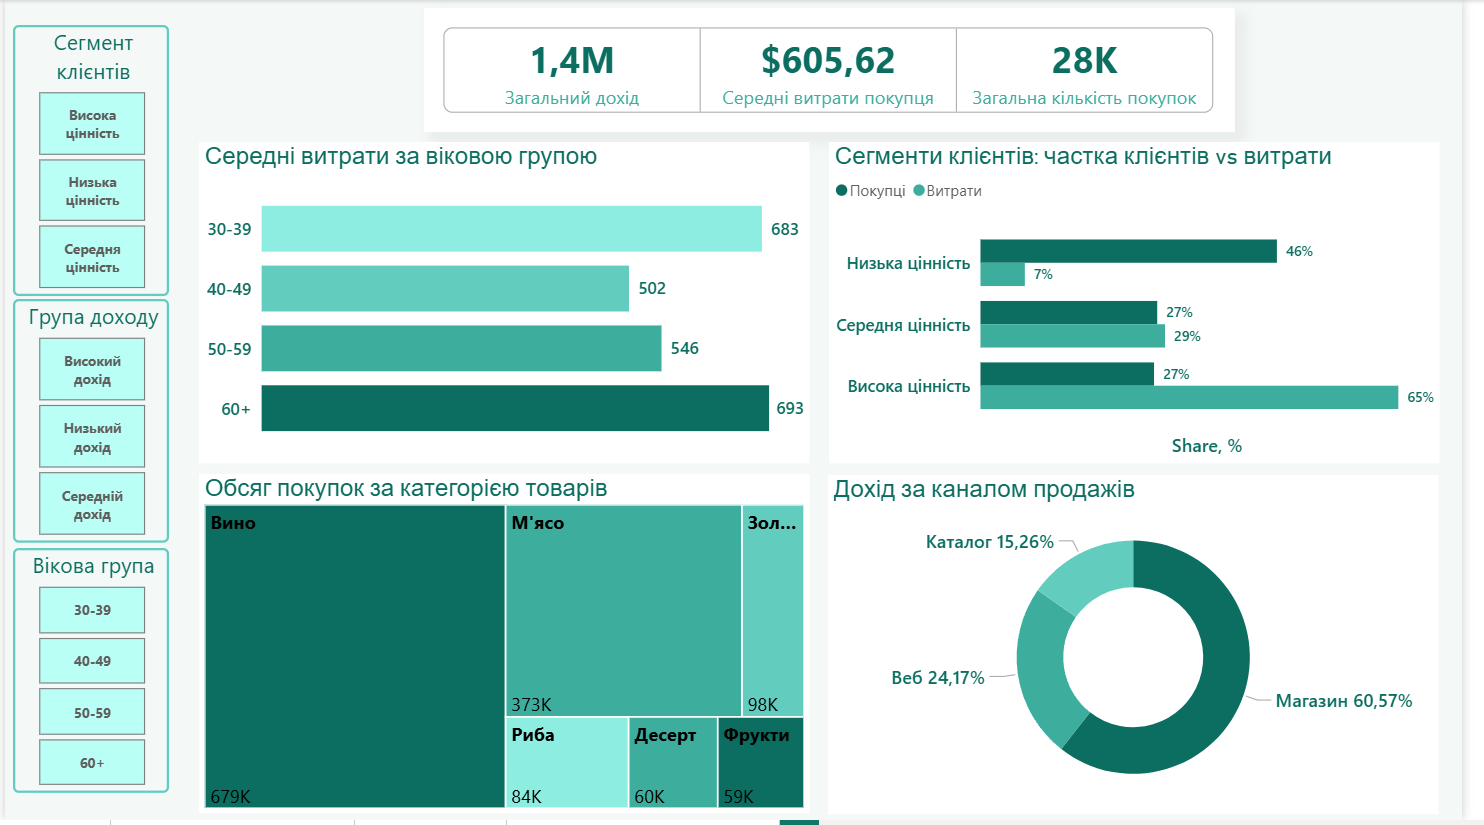

Layout of this report page (visuals, bound fields, positions):
{"tool":"powerbi","page":{"name":"Портрет_клієнта_ua","canvas":[1280,720],"ordinal":2},"visuals":[{"type":"cardVisual","fields":{"Data":["_Measures.Total Revenue","_Measures.Avg Customer Spending","_Measures.Total Purchases"]},"box":[367.5,7.1,712.4,109.3],"z":0},{"type":"slicer","title":"Сегмент клієнтів","fields":{"Values":["marketing_campaign_features.Customer Segment UA"]},"box":[7.1,21.7,137.5,238.1],"z":1000},{"type":"slicer","title":"Група доходу","fields":{"Values":["marketing_campaign_features.Income Group UA"]},"box":[7.1,262.6,137.5,214],"z":2000},{"type":"slicer","title":"Вікова група","fields":{"Values":["marketing_campaign_features.Age Group"]},"box":[7.1,480.9,137.5,215.4],"z":3000},{"type":"clusteredBarChart","title":"Сегменти клієнтів: частка клієнтів vs витрати","fields":{"Category":["marketing_campaign_features.Customer Segment UA"],"Y":["_Measures.% of Customers","_Measures.% of Revenue"]},"box":[723.5,124.8,536.3,281.6],"z":4000},{"type":"clusteredBarChart","title":"Середні витрати за віковою групою","fields":{"Category":["marketing_campaign_features.Age Group"],"Y":["_Measures.Avg Spending by Product"]},"box":[170.3,124.8,536.3,281.6],"z":5000},{"type":"treemap","title":"Обсяг покупок за категорією товарів","fields":{"Group":["Product_Unpivoted.ProductCategory UA"],"Values":["_Measures.Product spending Virtual"]},"box":[170.3,416.5,536.3,298.5],"z":6000},{"type":"donutChart","title":"Дохід за каналом продажів","fields":{"Y":["_Measures.Total Revenue"],"Category":["marketing_campaign_features.Preferred Channel UA"]},"box":[723,417,536,298],"z":7000}]}

Visuals, with their boxes in screenshot pixels (x1, y1, x2, y2), scaled from the page's 1280x720 canvas onto the 1484x825 screenshot:
cardVisual - _Measures.Total Revenue x _Measures.Avg Customer Spending: region(426, 8, 1252, 133)
"Сегмент клієнтів" slicer: region(8, 25, 168, 298)
"Група доходу" slicer: region(8, 301, 168, 546)
"Вікова група" slicer: region(8, 551, 168, 798)
"Сегменти клієнтів: частка клієнтів vs витрати" clusteredBarChart: region(839, 143, 1461, 466)
"Середні витрати за віковою групою" clusteredBarChart: region(197, 143, 819, 466)
"Обсяг покупок за категорією товарів" treemap: region(197, 477, 819, 819)
"Дохід за каналом продажів" donutChart: region(838, 478, 1460, 819)
